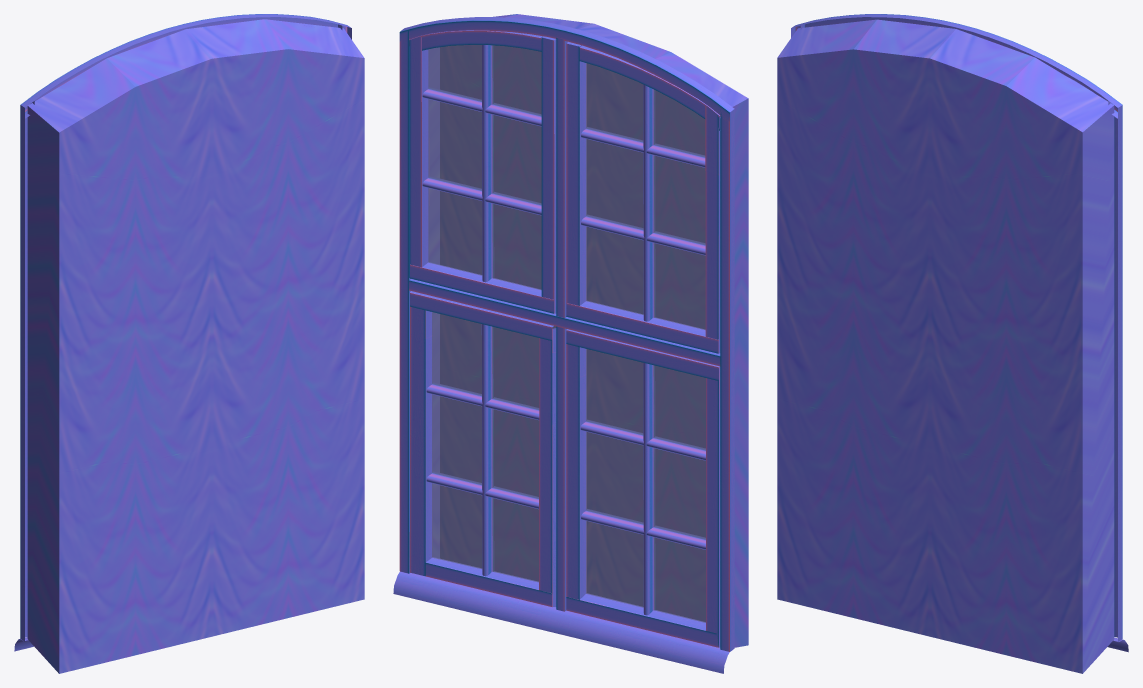
Rendered from m_window_02.fbx.
3 views of the same model, side by side, from view 1: azimuth 30°, elevation 25°; view 2: azimuth 150°, elevation 25°; view 3: azimuth 330°, elevation 25° (orthographic).
Visible parts, largest first — view 1: m_Window_02_curtain_LOD0, m_Window_02_LOD0; view 2: m_Window_02_LOD0, m_Window_02_curtain_LOD0, m_Window_02_glass_LOD0; view 3: m_Window_02_curtain_LOD0, m_Window_02_LOD0.
Boxes of the visible parts, bbox=[...] form: m_Window_02_curtain_LOD0: bbox=[27, 19, 364, 673]; m_Window_02_LOD0: bbox=[14, 14, 351, 651]; m_Window_02_LOD0: bbox=[393, 17, 734, 673]; m_Window_02_curtain_LOD0: bbox=[429, 14, 748, 647]; m_Window_02_glass_LOD0: bbox=[428, 45, 705, 622]; m_Window_02_curtain_LOD0: bbox=[777, 19, 1114, 673]; m_Window_02_LOD0: bbox=[791, 14, 1128, 652].
Size of the model in its own units: 150 by 260 by 27.55.
2 materials, 1 textured.
